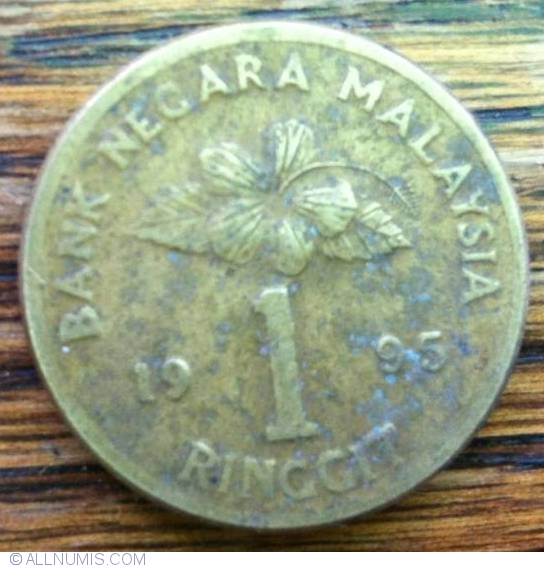1r: (17, 19, 530, 532)
